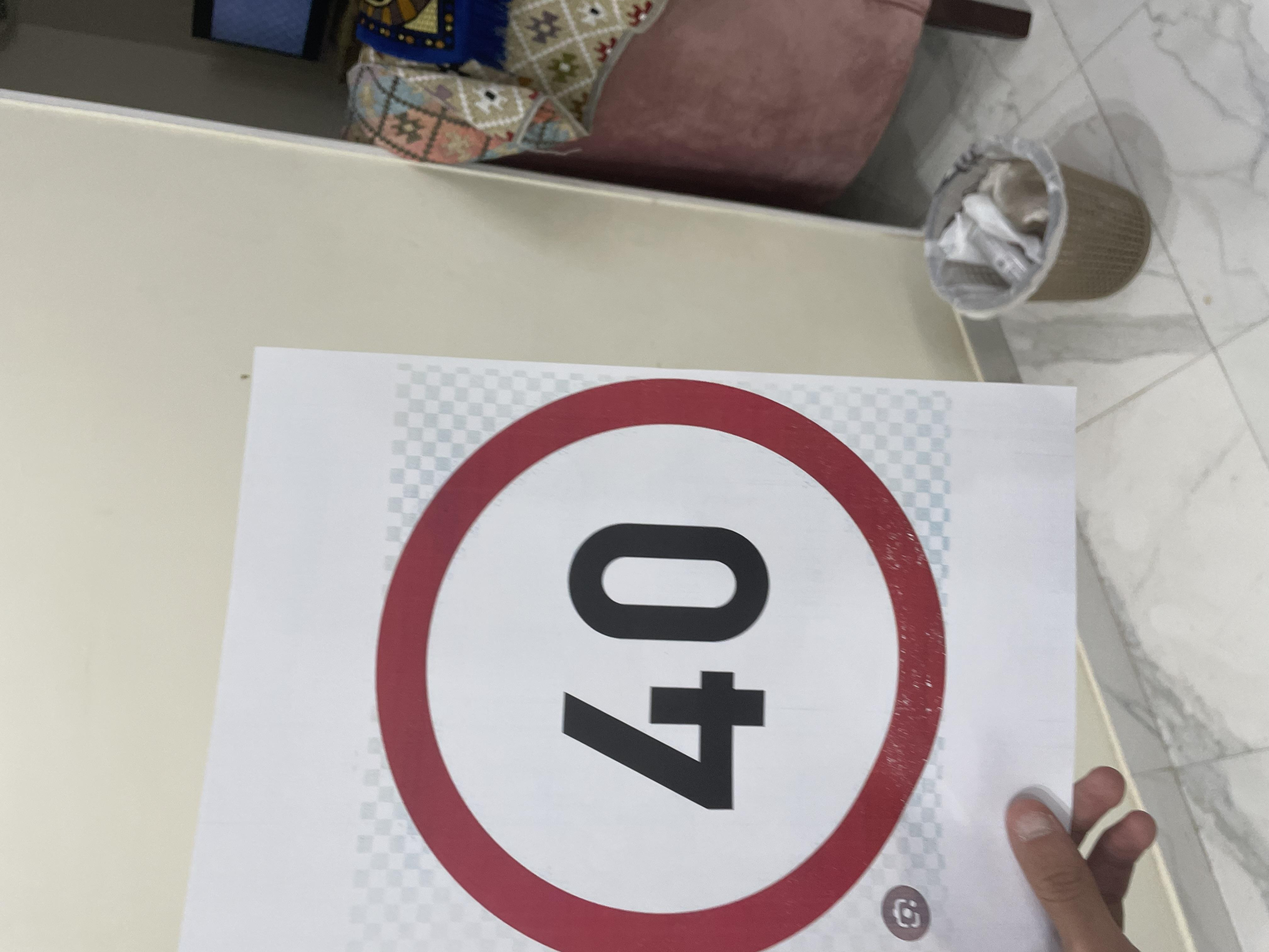40-Speed: (18, 267, 781, 708)
